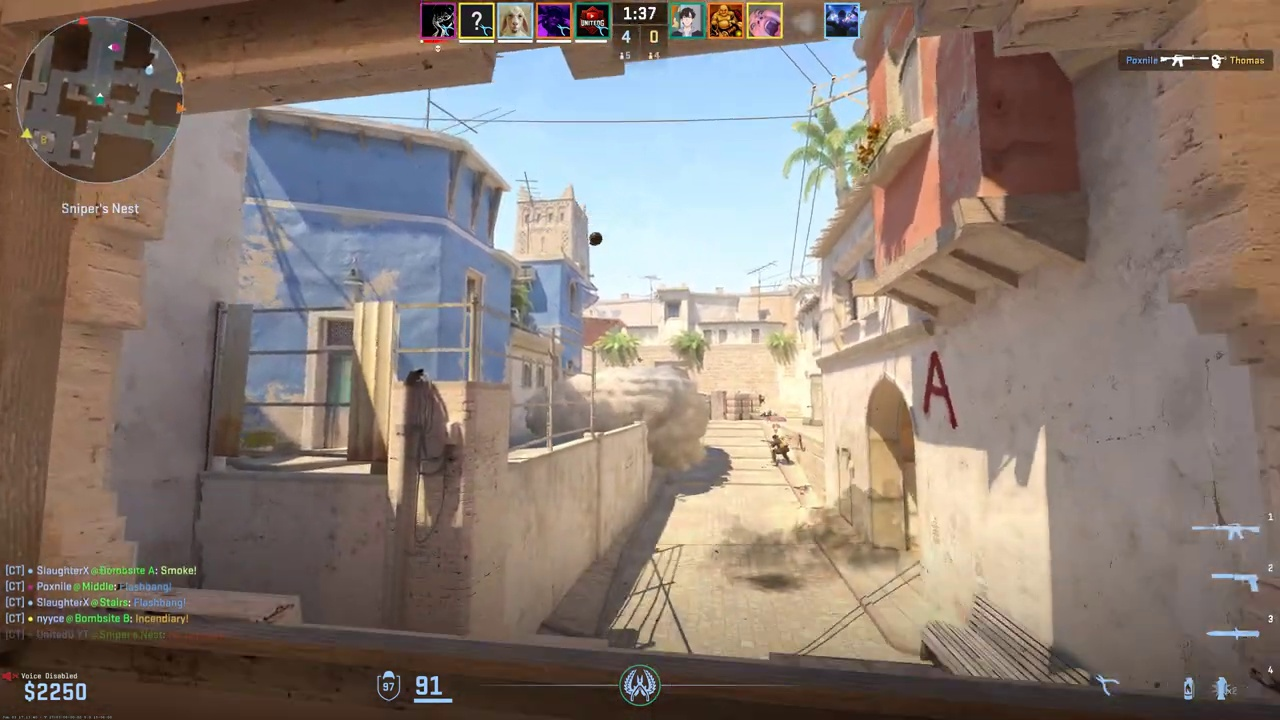CT: (770, 434, 789, 467)
